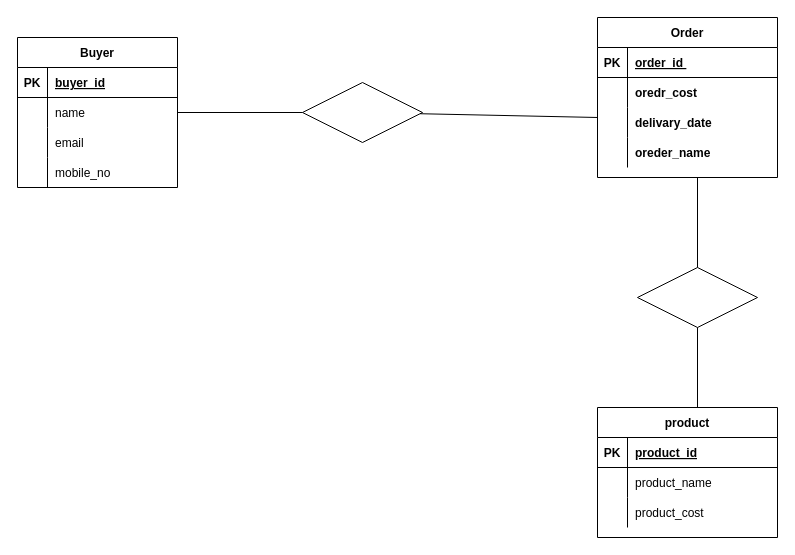
This 795x555 diagram has some shape labels left out. The centre of each missing label's shape, as x and y in pixels:
"includes" goes at point (697, 297).
"Make" goes at point (362, 112).
